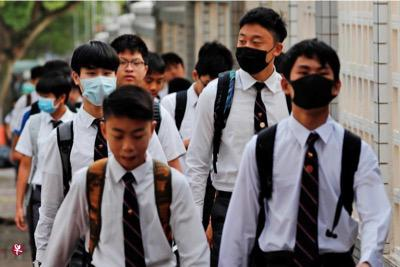with_mask: (290, 63, 335, 112), (234, 31, 273, 76), (79, 66, 116, 107), (37, 93, 55, 116)
without_mask: (105, 125, 148, 167), (116, 55, 143, 86), (144, 74, 164, 99), (163, 63, 184, 83)
